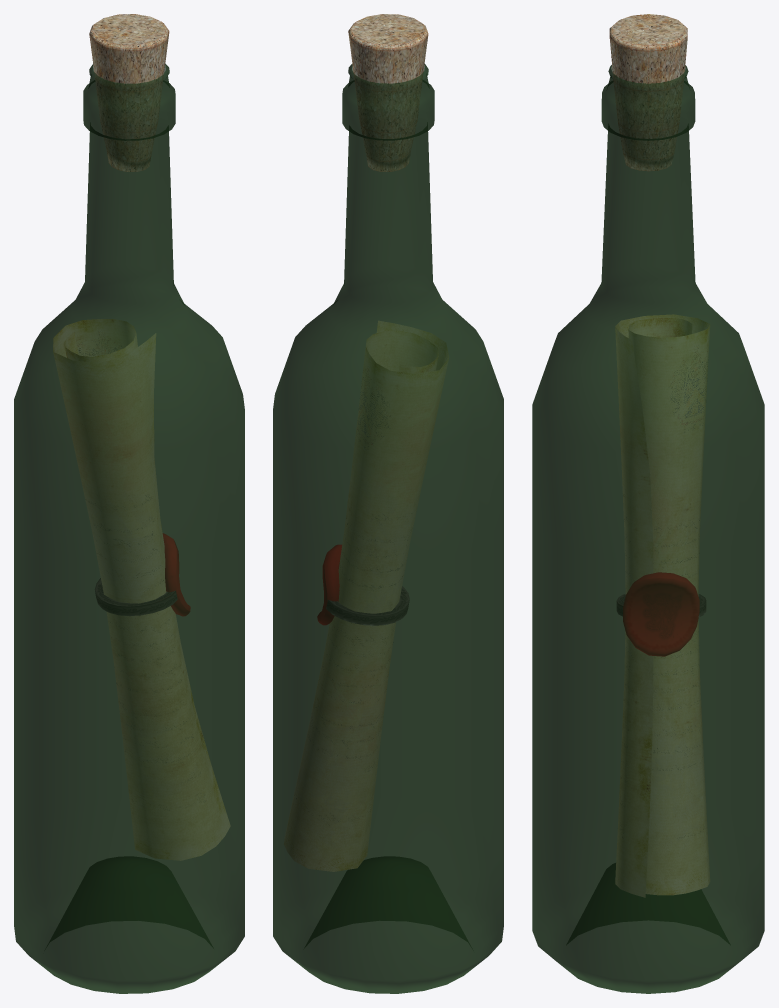
File: bottle_with_scroll.glb
3 renders of one model, left to right at view 1: azimuth 30°, elevation 25°; view 2: azimuth 150°, elevation 25°; view 3: azimuth 270°, elevation 25°, orthographic.
Parts seen in each view (by area): view 1: Object_4, Object_2, Object_3; view 2: Object_4, Object_2, Object_3; view 3: Object_4, Object_2, Object_3.
Part boxes in pixels (left/top/right/bottom): Object_4: left=14, top=63, right=244, bottom=993; Object_2: left=53, top=319, right=230, bottom=860; Object_3: left=89, top=14, right=169, bottom=171; Object_4: left=273, top=64, right=503, bottom=993; Object_2: left=284, top=321, right=448, bottom=871; Object_3: left=348, top=14, right=428, bottom=171; Object_4: left=532, top=65, right=764, bottom=993; Object_2: left=615, top=314, right=709, bottom=897; Object_3: left=609, top=14, right=687, bottom=170.
Bounding box in the file's own units: 0.7111 × 3.14 × 0.7111.
3 materials, 2 textured.
